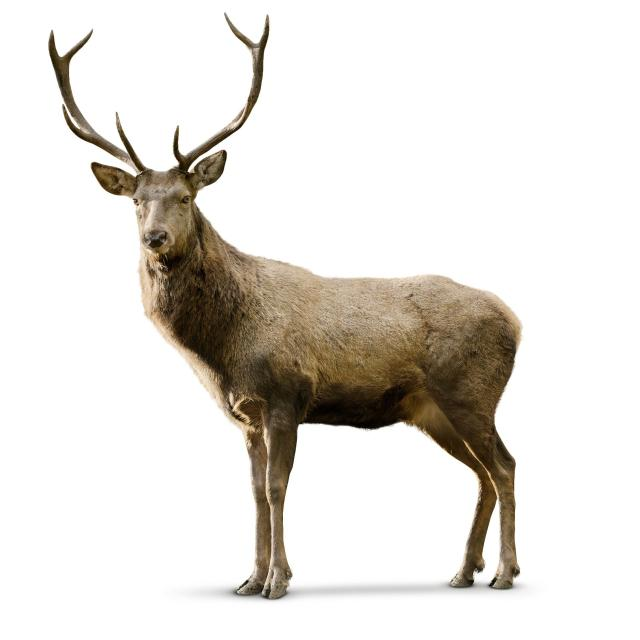deer: (48, 16, 521, 598)
